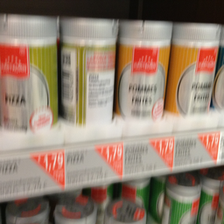spicesw: (1, 13, 60, 133), (60, 16, 120, 128), (117, 19, 174, 121), (165, 21, 222, 118)
